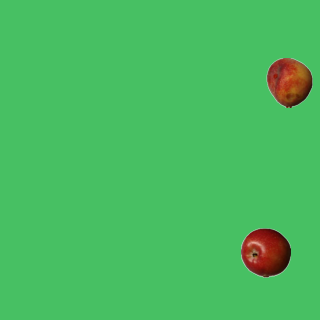Apple Braeburn: (240, 227, 290, 277)
Peach: (264, 57, 314, 107)
